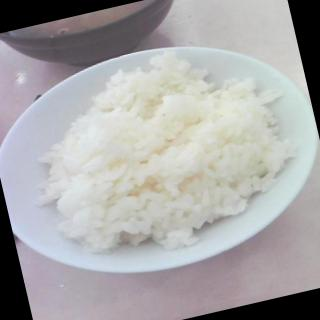Nasi: (8, 26, 315, 279)
